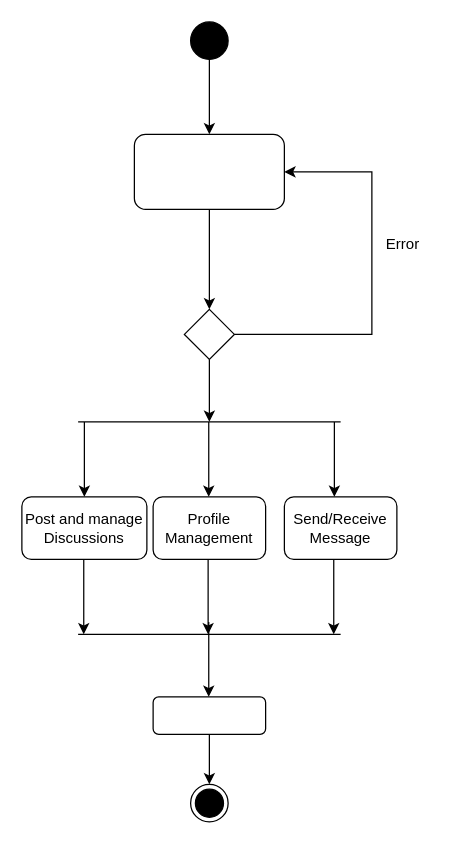
This 463x844 diagram has some shape labels left out. Here are the shapes that lost their labels. From the top down, the box of each, then its label:
(133, 133, 284, 209): Login/Register to App
(152, 696, 266, 734): Logout
